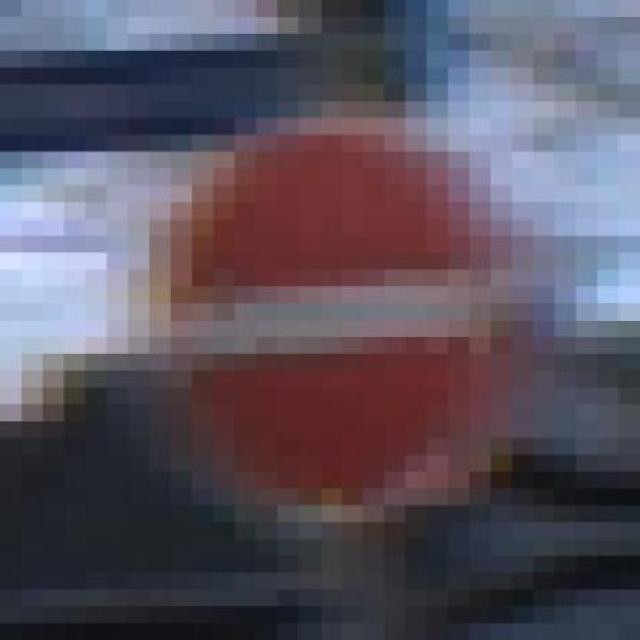B2: (178, 128, 490, 506)
